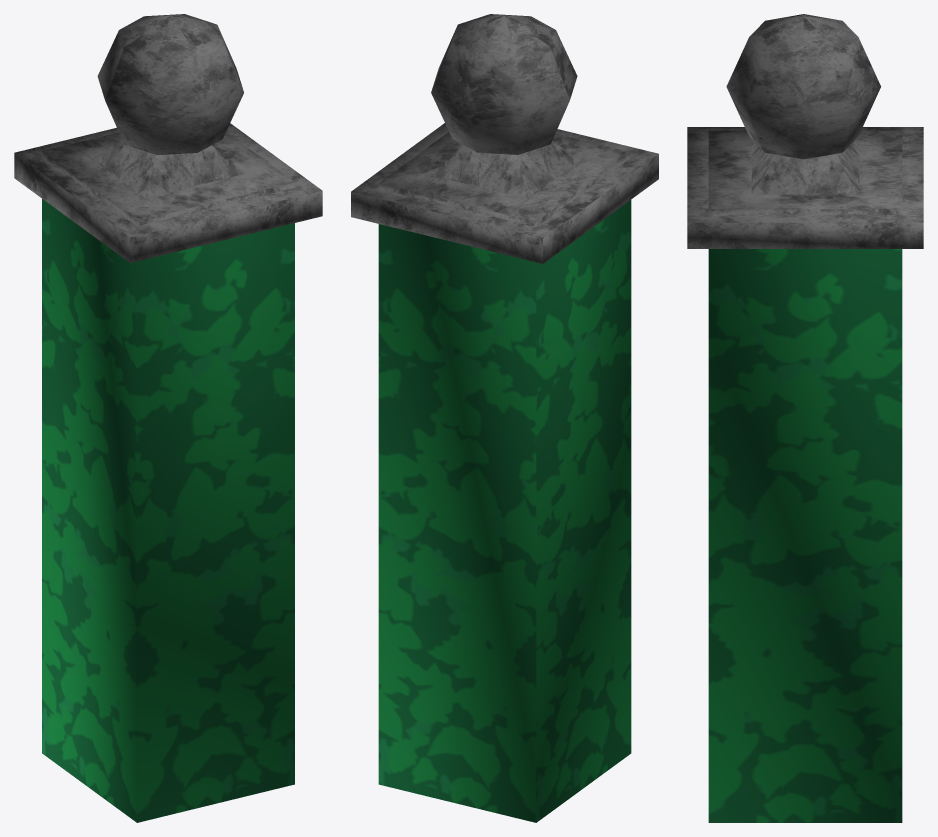
File: muro.fbx_Mureta.fbx
3 renders of one model, left to right at view 1: azimuth 30°, elevation 25°; view 2: azimuth 150°, elevation 25°; view 3: azimuth 270°, elevation 25°, orthographic. The views are drawn at different scales.
Visible parts, largest first — view 1: Mureta; view 2: Mureta; view 3: Mureta.
Part boxes in pixels (x1,y1,x2,y2): Mureta: (14, 14, 322, 822); Mureta: (351, 14, 658, 822); Mureta: (687, 14, 923, 822).
Bounding box in the file's own units: 117 × 438 × 122.
1 material, 1 textured.
